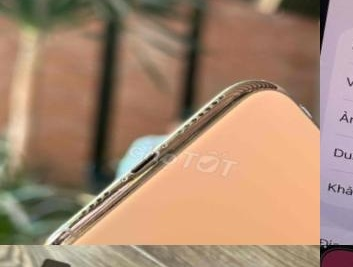scratch: (167, 74, 239, 152), (40, 204, 90, 245), (291, 99, 320, 141), (320, 245, 333, 267)
